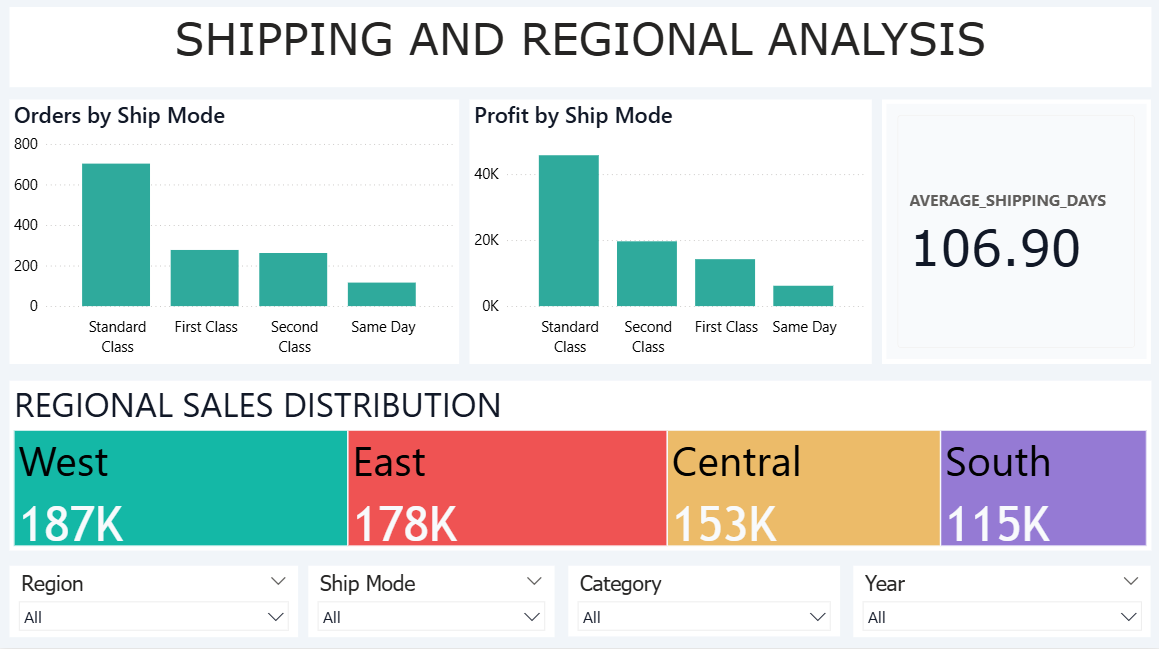

This screenshot's page, from the dashboard's own definition file:
{"tool":"powerbi","page":{"name":"SHIPPING & REGIONAL ANALYSIS","canvas":[1280,720],"ordinal":4},"visuals":[{"type":"columnChart","title":"Orders by Ship Mode","fields":{"Y":["ALL_MEASURES.Total Orders"],"Category":["Sample - Superstore.Ship Mode"]},"box":[13.3,118.3,493.3,290],"z":0},{"type":"clusteredColumnChart","title":"Profit by Ship Mode","fields":{"Category":["Sample - Superstore.Ship Mode"],"Y":["ALL_MEASURES.Total Profit"]},"box":[518.3,118.3,441.7,290],"z":1000},{"type":"treemap","title":"REGIONAL SALES DISTRIBUTION","fields":{"Group":["Sample - Superstore.Region"],"Values":["Sum(Sample - Superstore.Sales)"]},"box":[13.3,426.7,1253.3,186.7],"z":2000},{"type":"cardVisual","fields":{"Data":["ALL_MEASURES.average_shipping_days"]},"box":[971.7,118.3,295,290],"z":3000},{"type":"slicer","fields":{"Values":["Sample - Superstore.Region"]},"box":[13.3,630,316.7,78.3],"z":4000},{"type":"slicer","fields":{"Values":["Sample - Superstore.Ship Mode"]},"box":[341.7,630,270,78.3],"z":5000},{"type":"slicer","fields":{"Values":["Sample - Superstore.Category"]},"box":[627.1,630.5,298.3,78],"z":6000},{"type":"slicer","fields":{"Values":["Sample - Superstore.Ship Date.Variation.Date Hierarchy.Year"]},"box":[940,630,326.7,78.3],"z":7000},{"type":"textbox","box":[13.3,16.7,1253.3,88.3],"z":8000}]}

Visuals, with their boxes in screenshot pixels (x1, y1, x2, y2), scaled from the page's 1280x720 canvas onto the 1159x649 screenshot:
"Orders by Ship Mode" columnChart: [left=12, top=107, right=459, bottom=368]
"Profit by Ship Mode" clusteredColumnChart: [left=469, top=107, right=869, bottom=368]
"REGIONAL SALES DISTRIBUTION" treemap: [left=12, top=385, right=1147, bottom=553]
cardVisual - ALL_MEASURES.average_shipping_days: [left=880, top=107, right=1147, bottom=368]
slicer - Sample - Superstore.Region: [left=12, top=568, right=299, bottom=638]
slicer - Sample - Superstore.Ship Mode: [left=309, top=568, right=554, bottom=638]
slicer - Sample - Superstore.Category: [left=568, top=568, right=838, bottom=639]
slicer - Sample - Superstore.Ship Date.Variation.Date Hierarchy.Year: [left=851, top=568, right=1147, bottom=638]
textbox: [left=12, top=15, right=1147, bottom=95]
